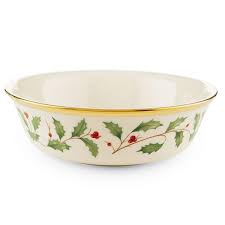bowl: (2, 64, 221, 169)
